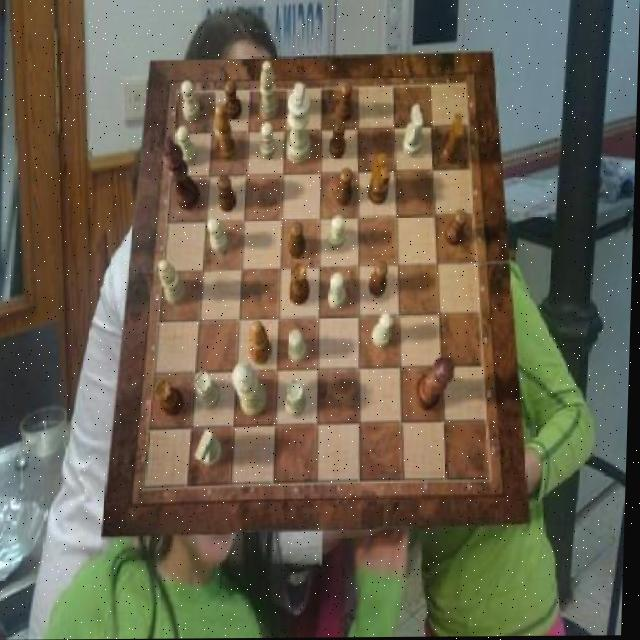bishop: (214, 105, 238, 162), (250, 321, 274, 365)
black-bishop: (162, 136, 202, 210)
black-king: (368, 154, 392, 207), (441, 114, 465, 165)
black-knight: (445, 211, 469, 247), (218, 176, 239, 213), (224, 82, 243, 122), (329, 121, 347, 160), (337, 82, 354, 123), (370, 262, 389, 298), (289, 221, 307, 259), (335, 169, 353, 207)
black-pawn: (415, 356, 456, 411)
black-queen: (157, 381, 187, 418), (290, 263, 311, 306)
black-rook: (159, 260, 188, 306), (260, 62, 280, 120)
white-bishop: (285, 83, 312, 165)
white-king: (402, 105, 423, 158), (198, 429, 225, 467)
white-knight: (175, 126, 199, 166), (180, 81, 201, 122), (207, 217, 230, 252), (373, 313, 394, 348), (259, 123, 277, 161), (329, 273, 347, 310), (289, 329, 308, 363), (329, 216, 347, 251)
white-pawn: (233, 363, 270, 418)
white-queen: (196, 371, 223, 409), (288, 380, 310, 419)
